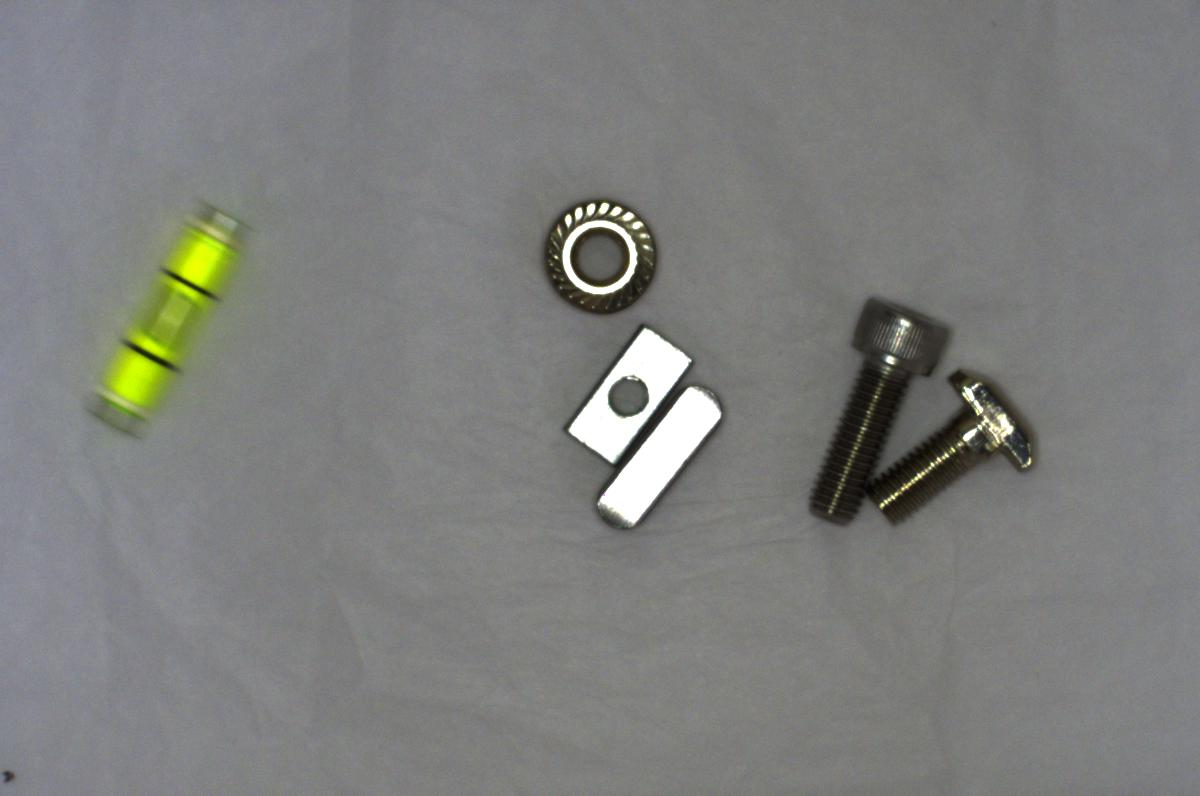Flange nut: (523, 185, 670, 312)
Hexagon screw: (800, 280, 952, 526)
Horizontal bubble: (88, 192, 252, 431)
Keybar: (585, 378, 733, 522)
Rectangular nut: (560, 321, 694, 468)
T-shaped screw: (869, 368, 1043, 527)
